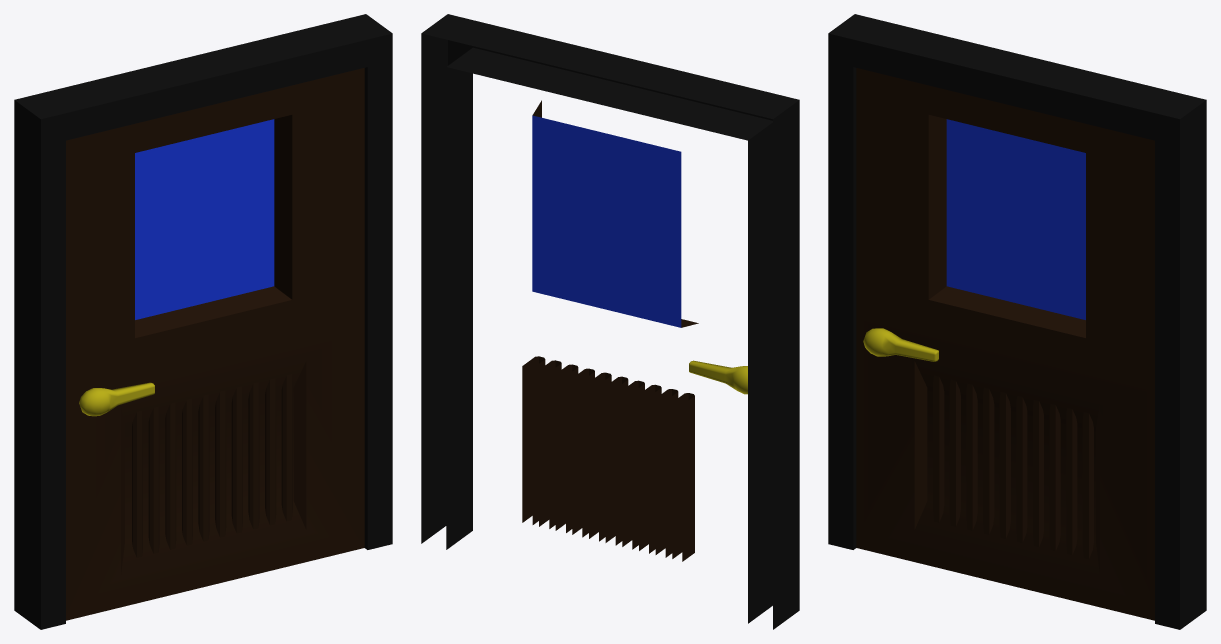
Rendered from Porta3.FBX.
3 views of the same model, side by side, from view 1: azimuth 30°, elevation 25°; view 2: azimuth 150°, elevation 25°; view 3: azimuth 330°, elevation 25° (orthographic).
Visible parts, largest first — view 1: porta3; view 2: porta3; view 3: porta3.
Part boxes in pixels (left/top/right/bottom): porta3: left=14, top=14, right=392, bottom=629; porta3: left=421, top=14, right=799, bottom=629; porta3: left=828, top=14, right=1206, bottom=629.
Bounding box in the file's own units: 86.78 × 120 × 14.79.
